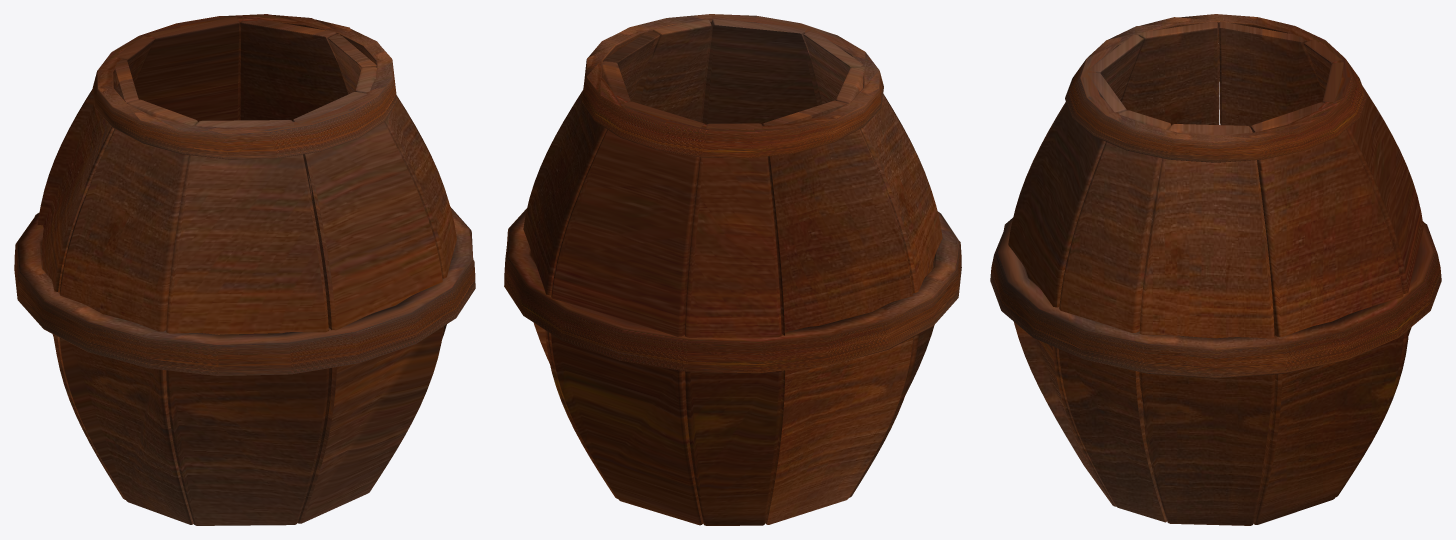
File: Level1_Barrel.fbx
The picture shows the model from 3 angles, left to right: view 1: azimuth 30°, elevation 25°; view 2: azimuth 150°, elevation 25°; view 3: azimuth 270°, elevation 25°; orthographic projection.
Parts seen in each view (by area): view 1: polySurface44; view 2: polySurface44; view 3: polySurface44.
Boxes of the visible parts, left/top/right/bottom form: polySurface44: left=14, top=14, right=475, bottom=525; polySurface44: left=504, top=14, right=961, bottom=525; polySurface44: left=990, top=14, right=1441, bottom=525.
Bounding box in the file's own units: 5.5 × 5.21 × 5.4.
